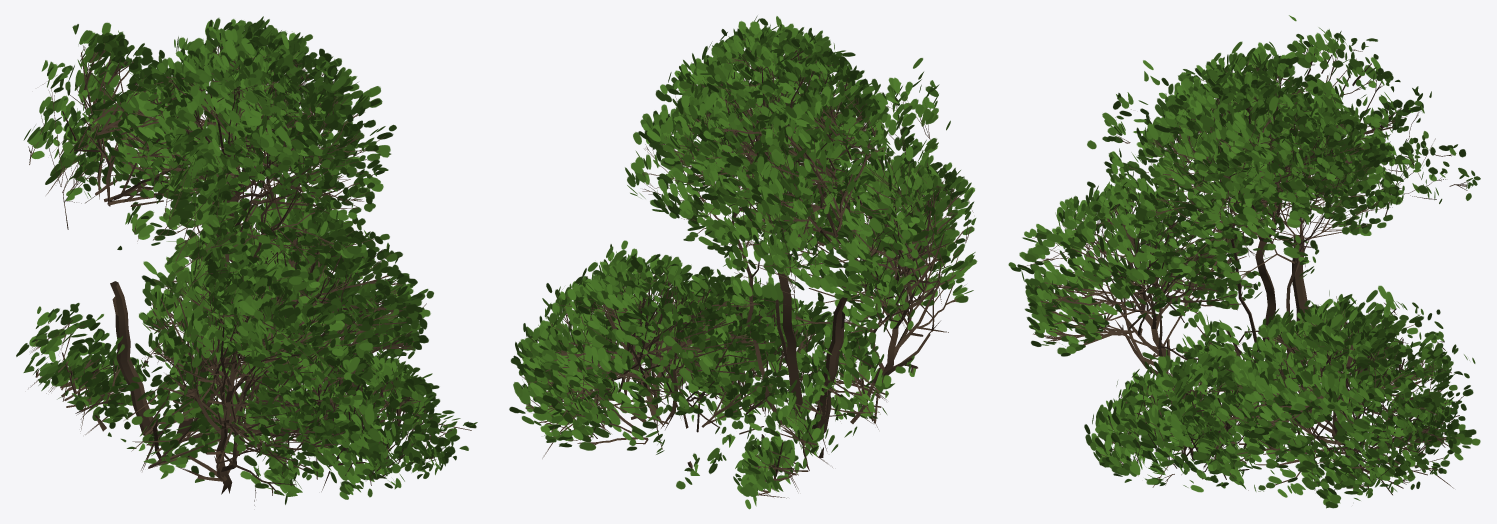
3 views of the same model, side by side, from view 1: azimuth 30°, elevation 25°; view 2: azimuth 150°, elevation 25°; view 3: azimuth 270°, elevation 25° (orthographic). The views are drawn at different scales.
Parts seen in each view (by area): view 1: oak 01.001_trunk_Mat.001_0.265; view 2: oak 01.001_trunk_Mat.001_0.265; view 3: oak 01.001_trunk_Mat.001_0.265.
Boxes of the visible parts, x1,y1,x2,y2 form: oak 01.001_trunk_Mat.001_0.265: (16, 16, 477, 505); oak 01.001_trunk_Mat.001_0.265: (509, 15, 977, 509); oak 01.001_trunk_Mat.001_0.265: (1008, 15, 1480, 508).
Bounding box in the file's own units: 4.39 × 5.15 × 5.74.
2 materials, 1 textured.
